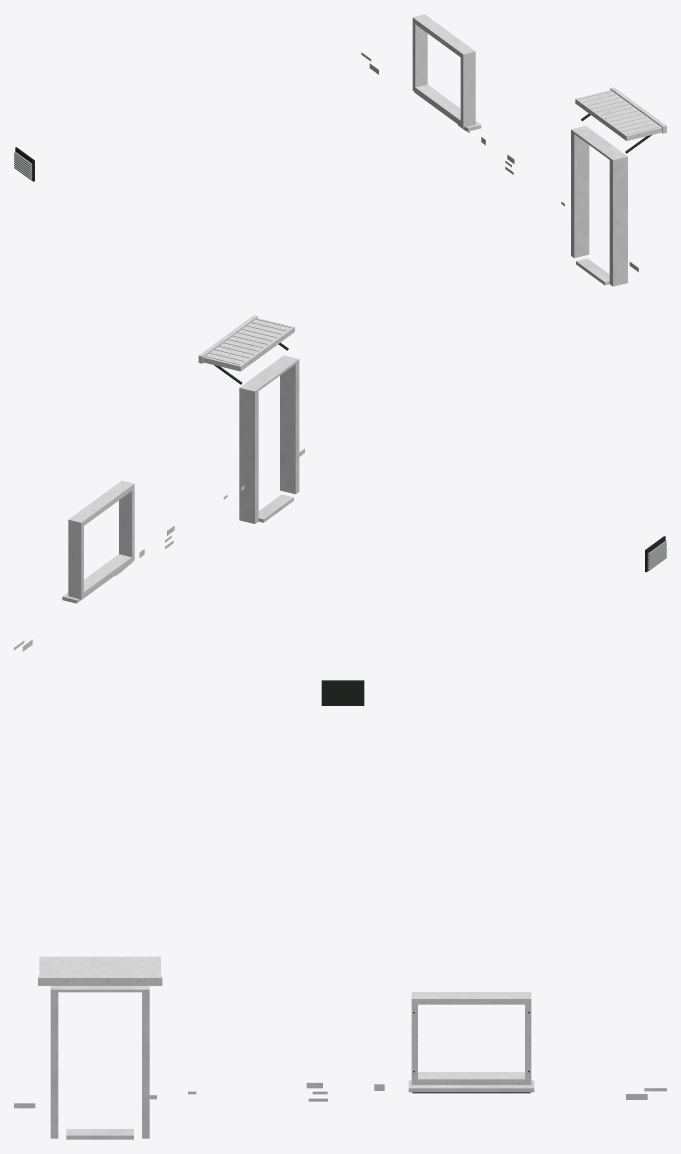
Rendered from SM_Homes_H04_Fixtures.glb.
3 renders of one model, top to bottom at view 1: azimuth 30°, elevation 25°; view 2: azimuth 150°, elevation 25°; view 3: azimuth 270°, elevation 25°, orthographic. The views are drawn at different scales.
Parts seen in each view (by area): view 1: SM_Homes_H04_Fixtures; view 2: SM_Homes_H04_Fixtures; view 3: SM_Homes_H04_Fixtures.
Part boxes in pixels (x1,y1,x2,y2): SM_Homes_H04_Fixtures: (14, 14, 666, 286); SM_Homes_H04_Fixtures: (14, 315, 666, 651); SM_Homes_H04_Fixtures: (14, 680, 666, 1139).
Size of the model in its own units: 9.81 by 2.88 by 9.14.
6 materials, 4 textured.
